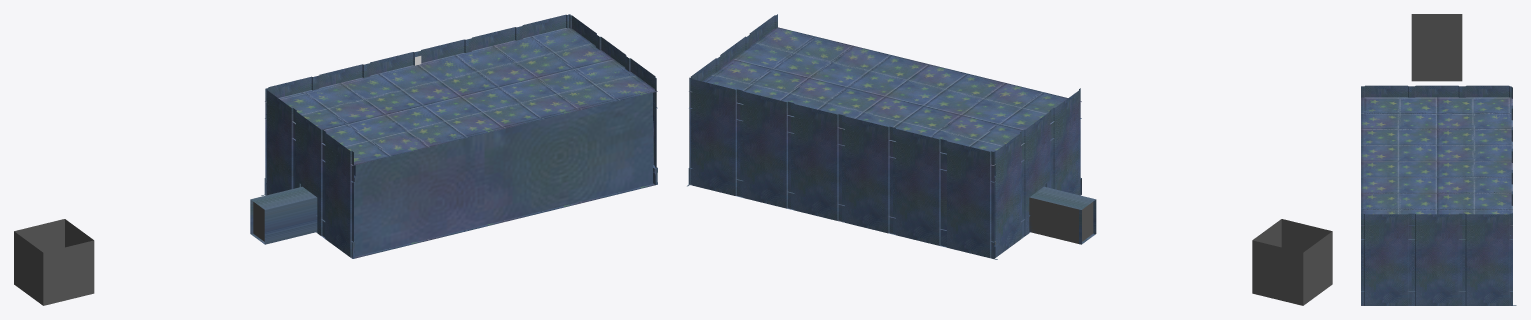
The model's file is las_18_bake.dae.
3 views of the same model, side by side, from view 1: azimuth 30°, elevation 25°; view 2: azimuth 150°, elevation 25°; view 3: azimuth 270°, elevation 25° (orthographic). The views are drawn at different scales.
Parts seen in each view (by area): view 1: pCube4_q00011, pCube1_q00009, pCube1_q00214, polySurface204_q00000, pCube3_q00038, pCube3_q00037, pCube3_q00036, pCube3_q00005, pCube3_q00182, pCube1_q00215, pCube3_q00184, pCube3_q00185 (+5 smaller); view 2: pCube1_q00214, pCube1_q00009, pCube3_q00185, pCube3_q00182, pCube3_q00186, pCube3_q00183, pCube3_q00181, pCube3_q00184, polySurface204_q00000, pCube3_q00038, pCube3_q00036, pCube3_q00037 (+4 smaller); view 3: pCube1_q00214, pCube1_q00009, pCube3_q00208, pCube3_q00209, pCube3_q00207, e_bero_1, polySurface204_q00000, pCube3_q00038, pCube3_q00037, pCube3_q00036.
Part boxes in pixels (x1=…): pCube4_q00011: x1=354, y1=93, x2=652, y2=256; pCube1_q00009: x1=280, y1=29, x2=649, y2=159; pCube1_q00214: x1=265, y1=28, x2=657, y2=165; polySurface204_q00000: x1=14, y1=219, x2=94, y2=305; pCube3_q00038: x1=250, y1=109, x2=324, y2=244; pCube3_q00037: x1=324, y1=131, x2=353, y2=257; pCube3_q00036: x1=266, y1=89, x2=294, y2=195; pCube3_q00005: x1=250, y1=187, x2=316, y2=243; pCube3_q00182: x1=261, y1=76, x2=315, y2=195; pCube1_q00215: x1=351, y1=183, x2=655, y2=258; pCube3_q00184: x1=468, y1=26, x2=519, y2=52; pCube3_q00185: x1=519, y1=14, x2=570, y2=39; pCube1_q00214: x1=689, y1=27, x2=1081, y2=165; pCube1_q00009: x1=706, y1=29, x2=1063, y2=146; pCube3_q00185: x1=689, y1=77, x2=741, y2=197; pCube3_q00182: x1=943, y1=140, x2=997, y2=259; pCube3_q00186: x1=893, y1=127, x2=946, y2=247; pCube3_q00183: x1=791, y1=102, x2=841, y2=221; pCube3_q00181: x1=842, y1=115, x2=892, y2=233; pCube3_q00184: x1=740, y1=90, x2=790, y2=208; polySurface204_q00000: x1=1252, y1=219, x2=1332, y2=305; pCube3_q00038: x1=1022, y1=110, x2=1096, y2=244; pCube3_q00036: x1=993, y1=131, x2=1024, y2=257; pCube3_q00037: x1=1051, y1=88, x2=1080, y2=195; pCube1_q00214: x1=1361, y1=97, x2=1512, y2=225; pCube1_q00009: x1=1364, y1=98, x2=1509, y2=214; pCube3_q00208: x1=1411, y1=213, x2=1462, y2=305; pCube3_q00209: x1=1361, y1=213, x2=1411, y2=305; pCube3_q00207: x1=1462, y1=213, x2=1516, y2=305; e_bero_1: x1=1411, y1=35, x2=1462, y2=81; polySurface204_q00000: x1=1411, y1=14, x2=1462, y2=35; pCube3_q00038: x1=1411, y1=85, x2=1462, y2=97; pCube3_q00037: x1=1361, y1=85, x2=1411, y2=97; pCube3_q00036: x1=1462, y1=85, x2=1511, y2=97.
Size of the model in its own units: 115 by 20 by 30.75.
